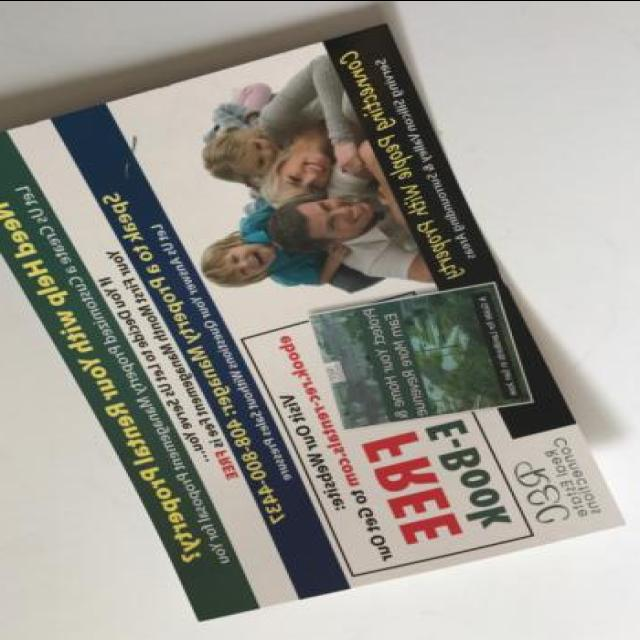kertas: (0, 20, 627, 625)
